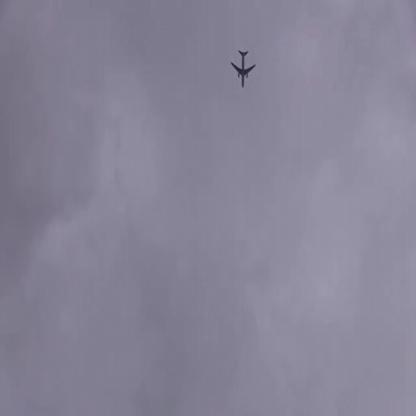CIV_Plane: (228, 46, 256, 90)
